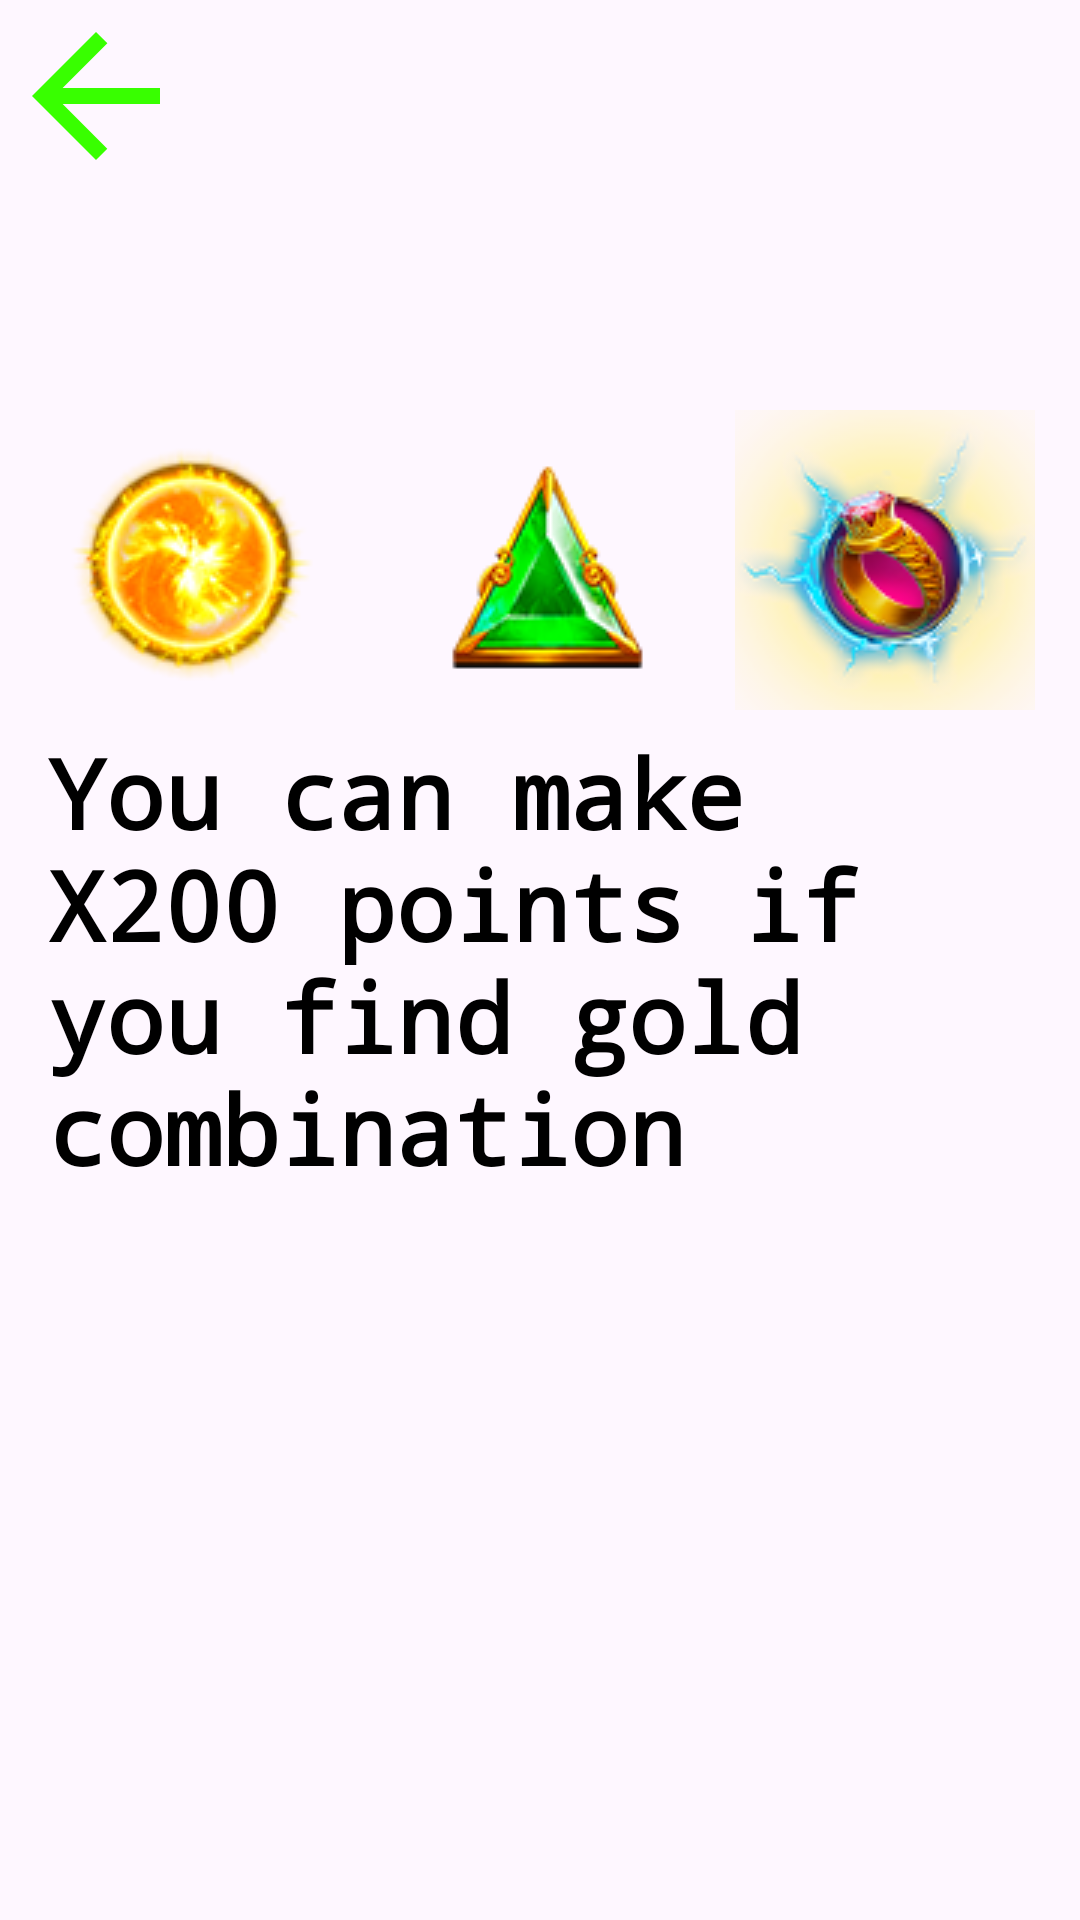

Icons on this 1080 x 1920 Android screen, each with its box as (x1, y1, x2, y2):
Button Back: (32, 32, 160, 160)
sun of gold: (76, 454, 309, 676)
triangle: (452, 466, 643, 669)
